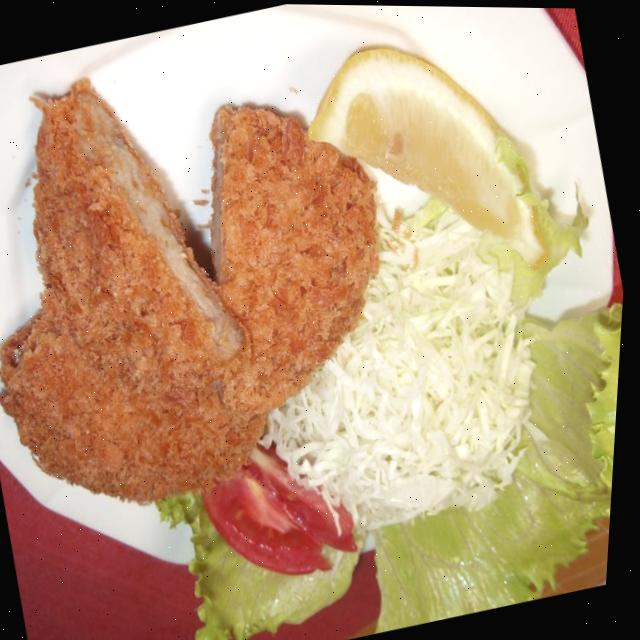炸货点心: (0, 10, 453, 544)
